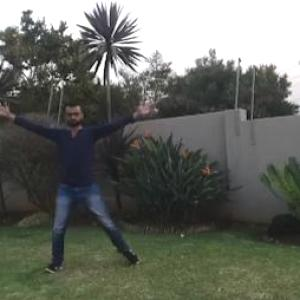takeoff: (1, 91, 162, 274)
